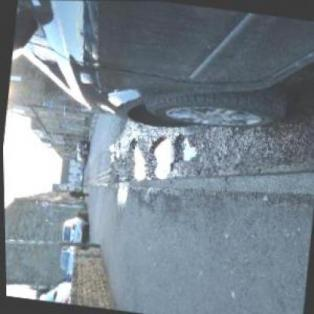Hueco: (121, 137, 151, 182), (146, 135, 174, 180), (172, 133, 199, 163)
